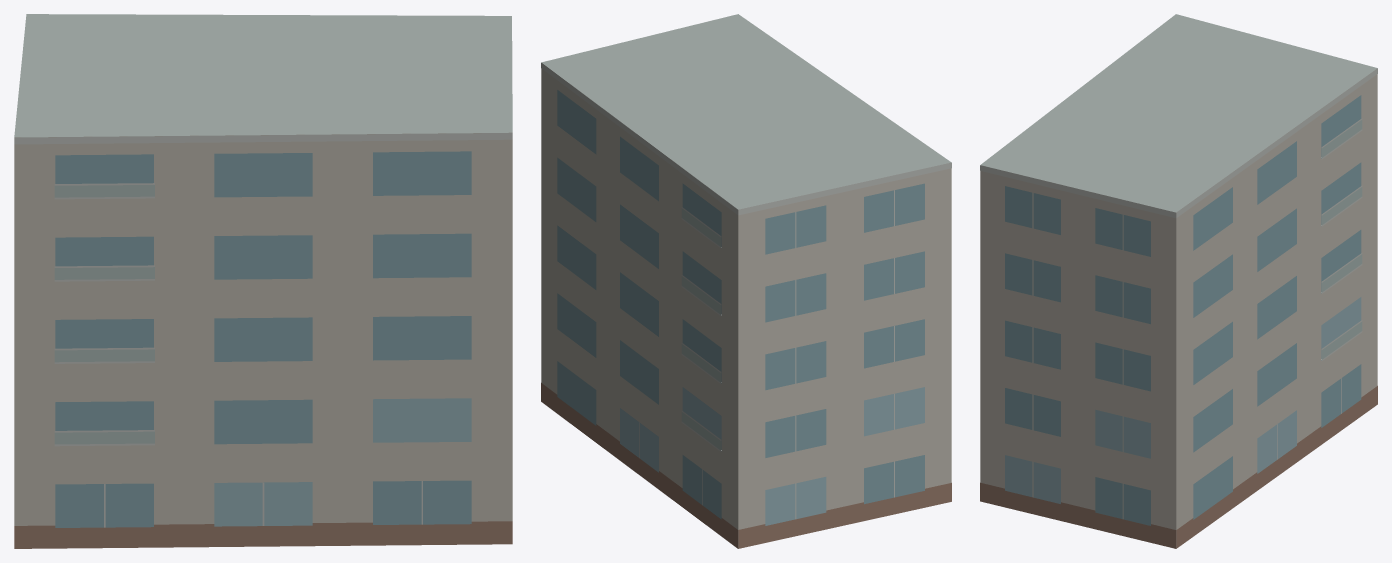
The model's file is survey-upis-33030564.glb.
The picture shows the model from 3 angles, left to right: view 1: azimuth 30°, elevation 25°; view 2: azimuth 150°, elevation 25°; view 3: azimuth 270°, elevation 25°; orthographic projection. The views are drawn at different scales.
Visible parts, largest first — view 1: survey-upis-33030564.tmp; view 2: survey-upis-33030564.tmp; view 3: survey-upis-33030564.tmp.
Part boxes in pixels (bbox=[...]): survey-upis-33030564.tmp: bbox=[14, 14, 512, 548]; survey-upis-33030564.tmp: bbox=[541, 14, 951, 548]; survey-upis-33030564.tmp: bbox=[980, 14, 1377, 548].
Size of the model in its own units: 18.21 by 14.37 by 15.41.
